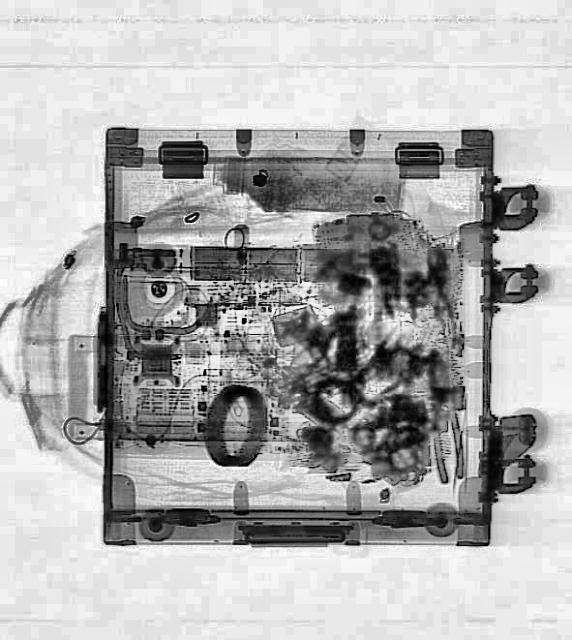Pliers: (421, 346, 468, 482)
